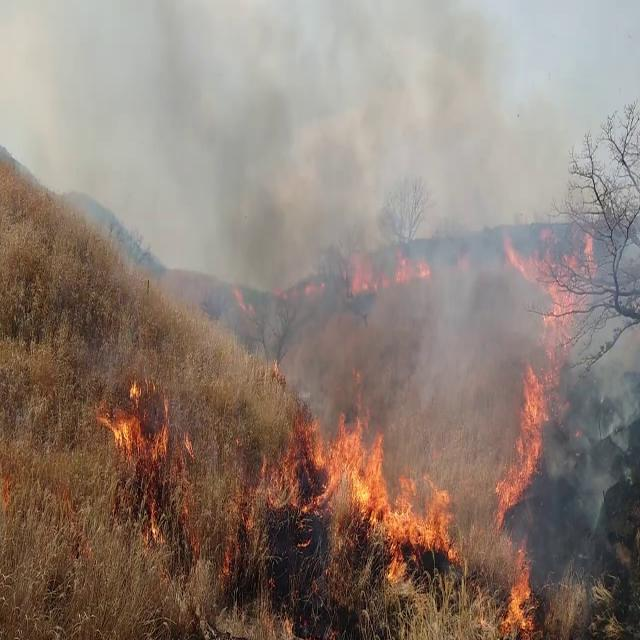Fire: (254, 382, 386, 521), (373, 452, 461, 582), (494, 350, 552, 520), (100, 366, 172, 469), (497, 526, 541, 636), (393, 241, 433, 289), (348, 253, 380, 301)
Smoke: (160, 0, 560, 394)
